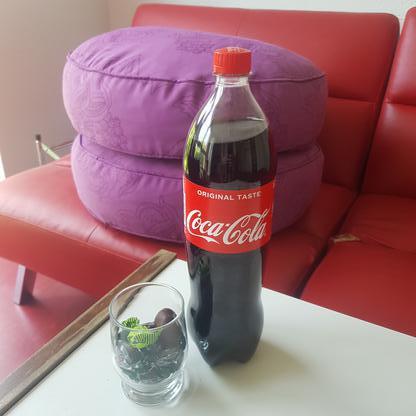coca-cola: (185, 47, 280, 367)
